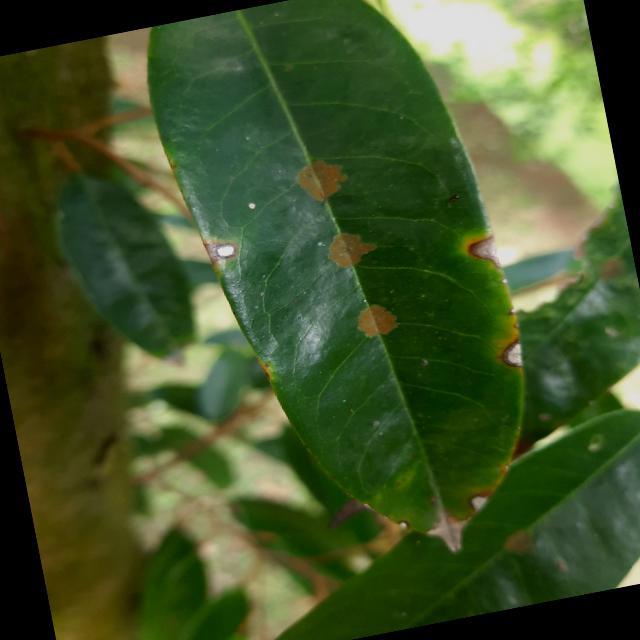Algal Leaf Spot: (130, 0, 571, 599)
